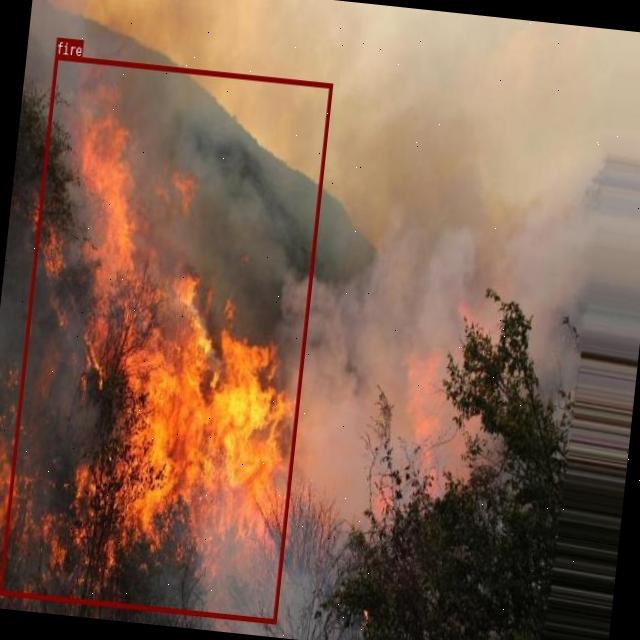fire: (0, 54, 331, 623)
